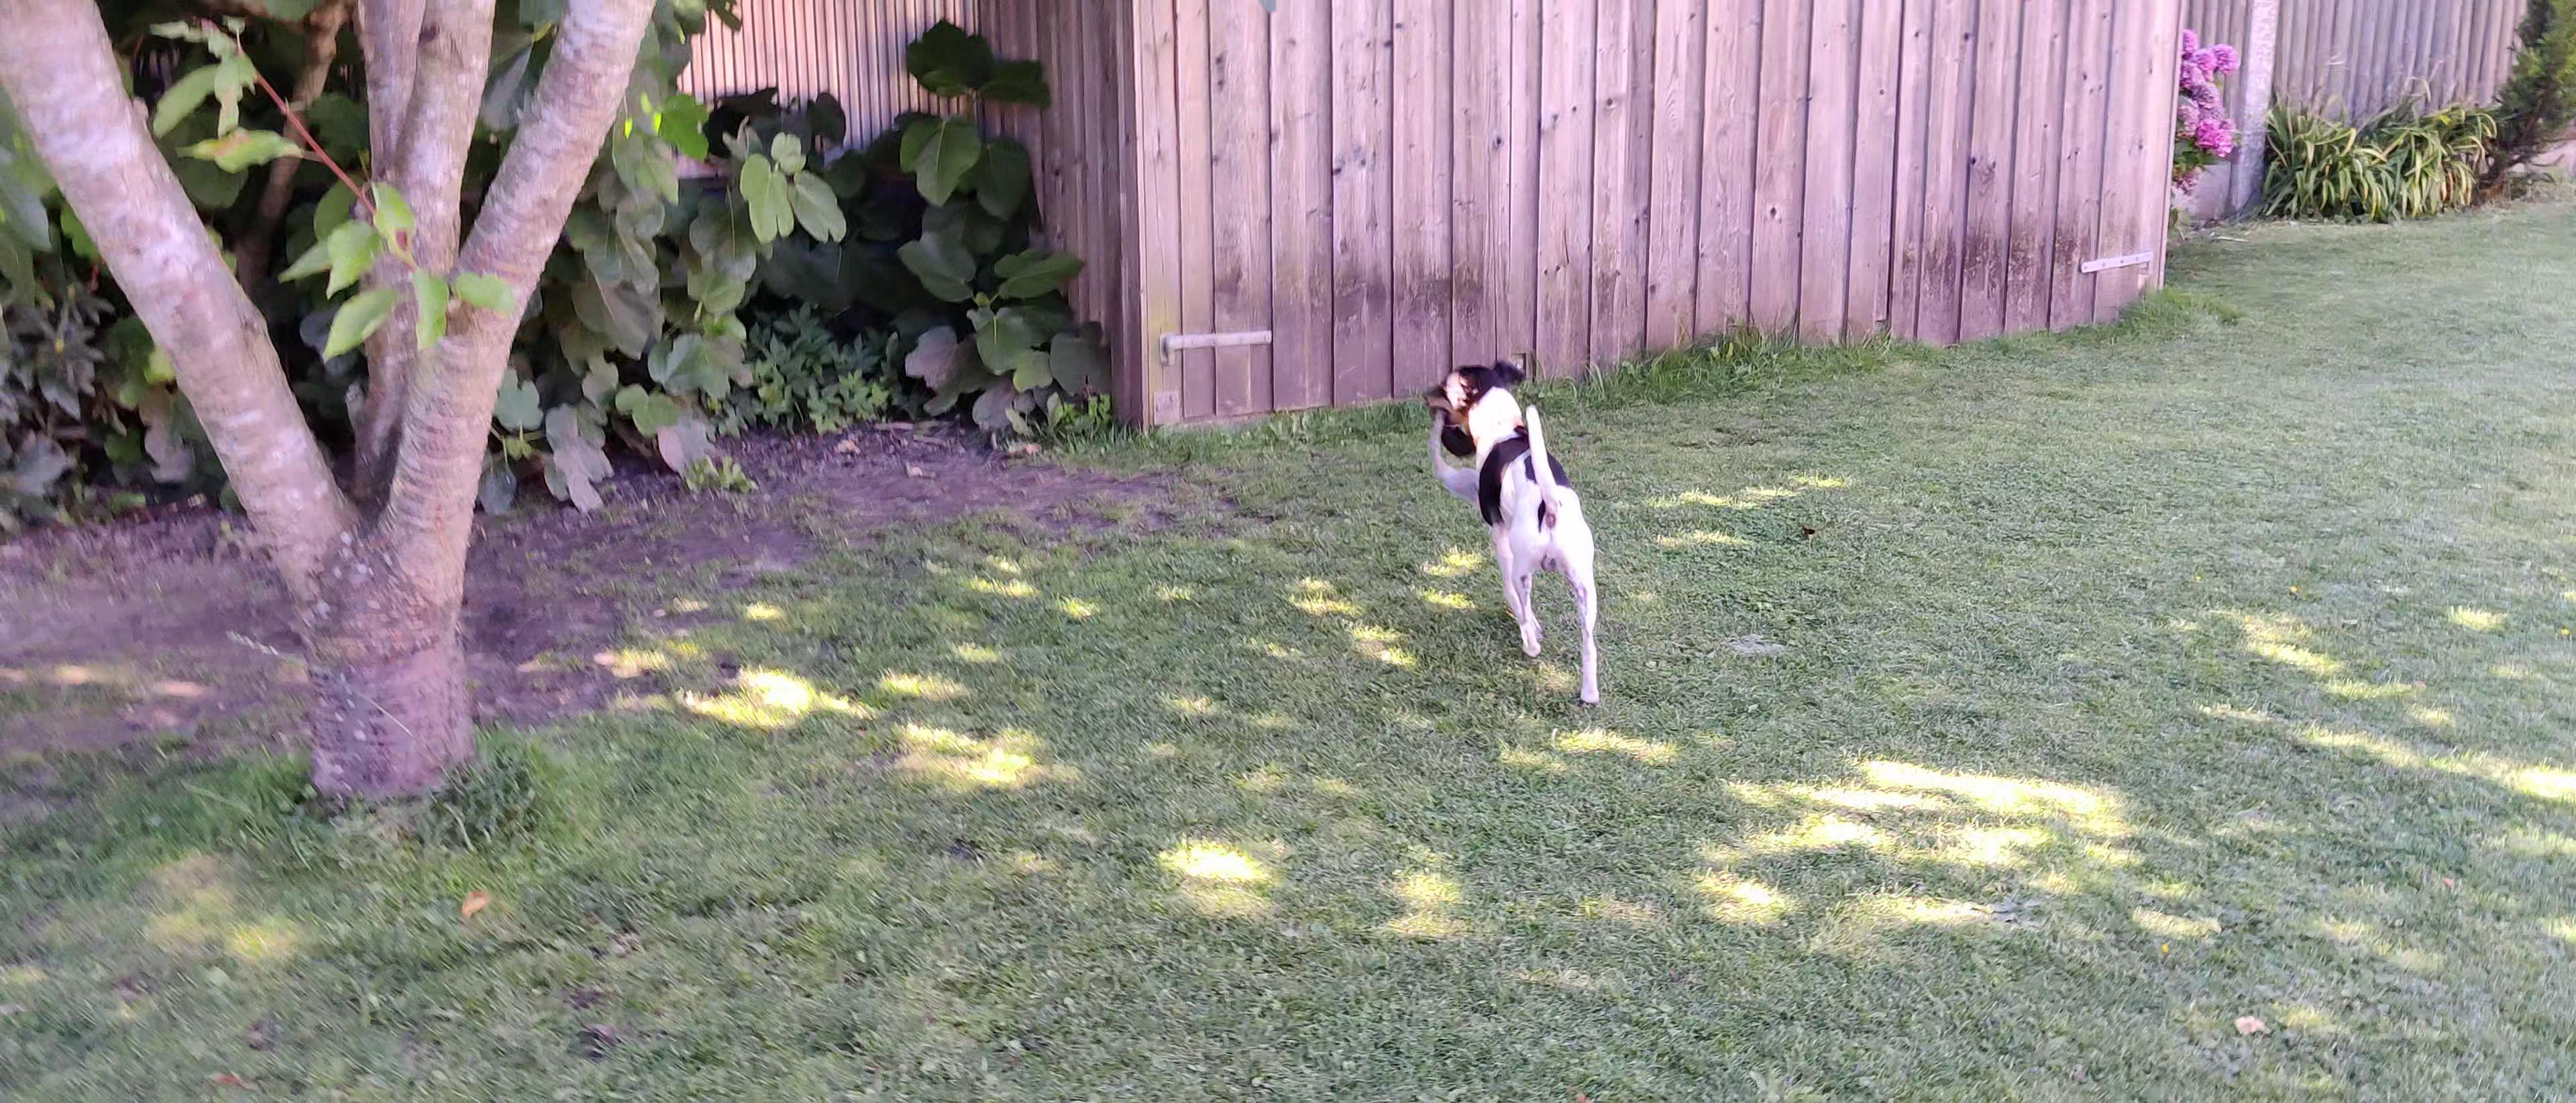Dog: (1419, 352, 1603, 704)
